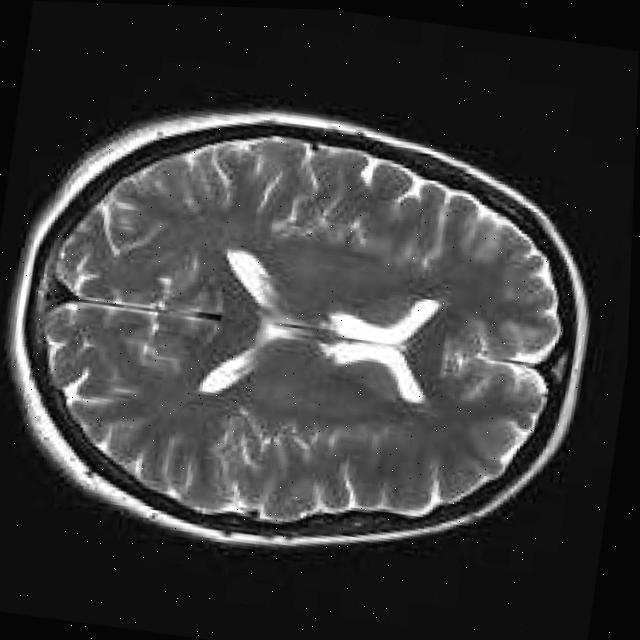NoTumor: (0, 70, 621, 597)
